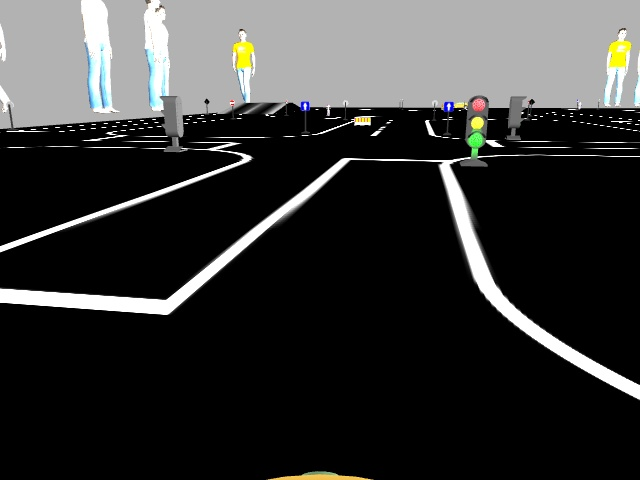ClosedRoadStand: (354, 117, 370, 125)
OneWay: (443, 101, 453, 111), (300, 101, 308, 111)
TrafficLight: (462, 95, 486, 152)
